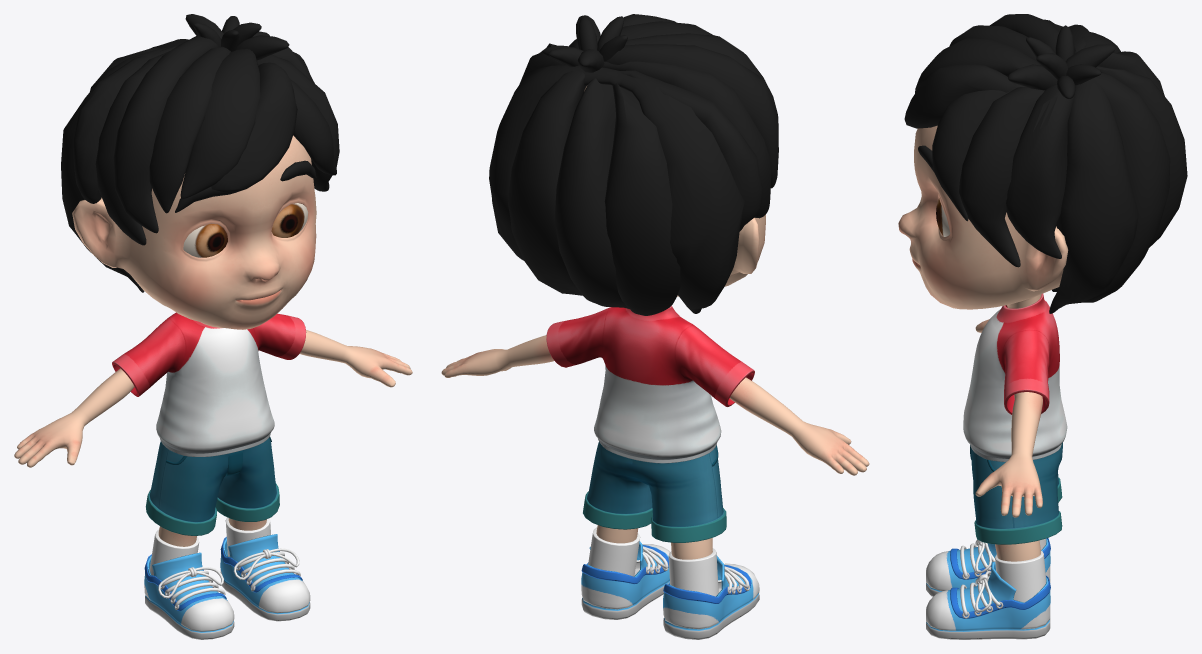
File: cartoon_boy.glb
3 renders of one model, left to right at view 1: azimuth 30°, elevation 25°; view 2: azimuth 150°, elevation 25°; view 3: azimuth 270°, elevation 25°, orthographic. The views are drawn at different scales.
Parts seen in each view (by area): view 1: PM3D_Sphere3D1_7, polySurface15, model11, model12, polySurface1, polySurface16, model7, model2, model10, polySurface2; view 2: PM3D_Sphere3D1_7, model11, model12, polySurface16, polySurface1, model2, polySurface2, polySurface15; view 3: PM3D_Sphere3D1_7, polySurface15, model11, polySurface1, model12, polySurface16, model2, polySurface2, model10.
Part boxes in pixels (x1,y1,x2,y2): PM3D_Sphere3D1_7: (61, 14, 339, 292); polySurface15: (72, 135, 316, 329); model11: (112, 312, 306, 456); model12: (145, 438, 279, 535); polySurface1: (144, 534, 310, 639); polySurface16: (14, 330, 412, 546); model7: (183, 203, 308, 257); model2: (149, 517, 270, 575); model10: (158, 548, 299, 598); polySurface2: (144, 537, 302, 611); PM3D_Sphere3D1_7: (489, 14, 778, 315); model11: (546, 305, 754, 463); model12: (583, 441, 726, 542); polySurface16: (441, 335, 869, 559); polySurface1: (581, 541, 759, 639); model2: (588, 527, 718, 596); polySurface2: (581, 545, 751, 603); polySurface15: (584, 86, 765, 296); PM3D_Sphere3D1_7: (904, 14, 1187, 313); polySurface15: (898, 125, 1068, 309); model11: (963, 293, 1067, 462); polySurface1: (926, 538, 1050, 639); model12: (971, 442, 1062, 544); polySurface16: (975, 307, 1042, 561); model2: (995, 538, 1046, 602); polySurface2: (950, 538, 1050, 618); model10: (975, 539, 991, 612).
Bounding box in the file's own units: 1.49 × 2.03 × 0.9055.
Materials: 5 (4 with a texture image).
